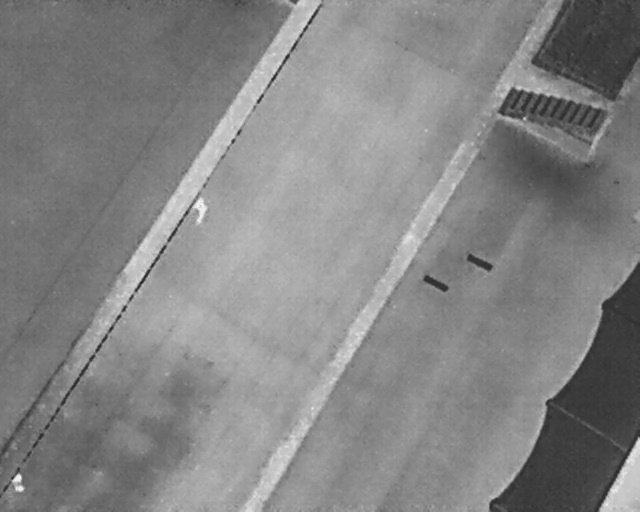Person: (192, 196, 209, 226), (10, 472, 26, 493)
